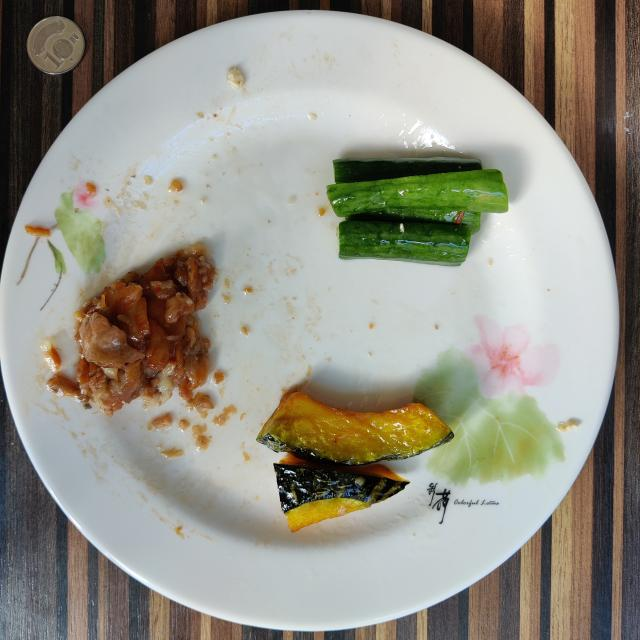Kabayaki sea bream fillet: (48, 246, 215, 415)
coin: (26, 16, 85, 75)
cucumber: (328, 158, 508, 266)
pumpkin: (258, 389, 454, 532)
